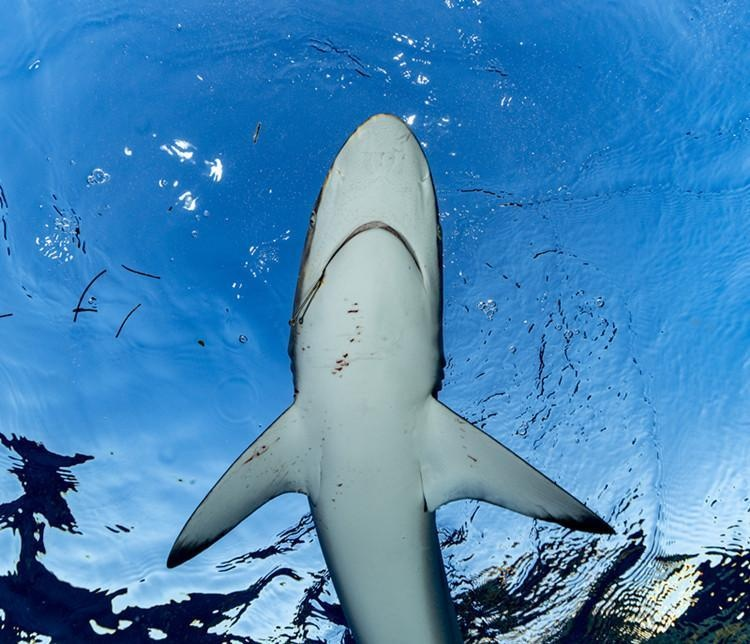fish: (169, 110, 611, 635)
